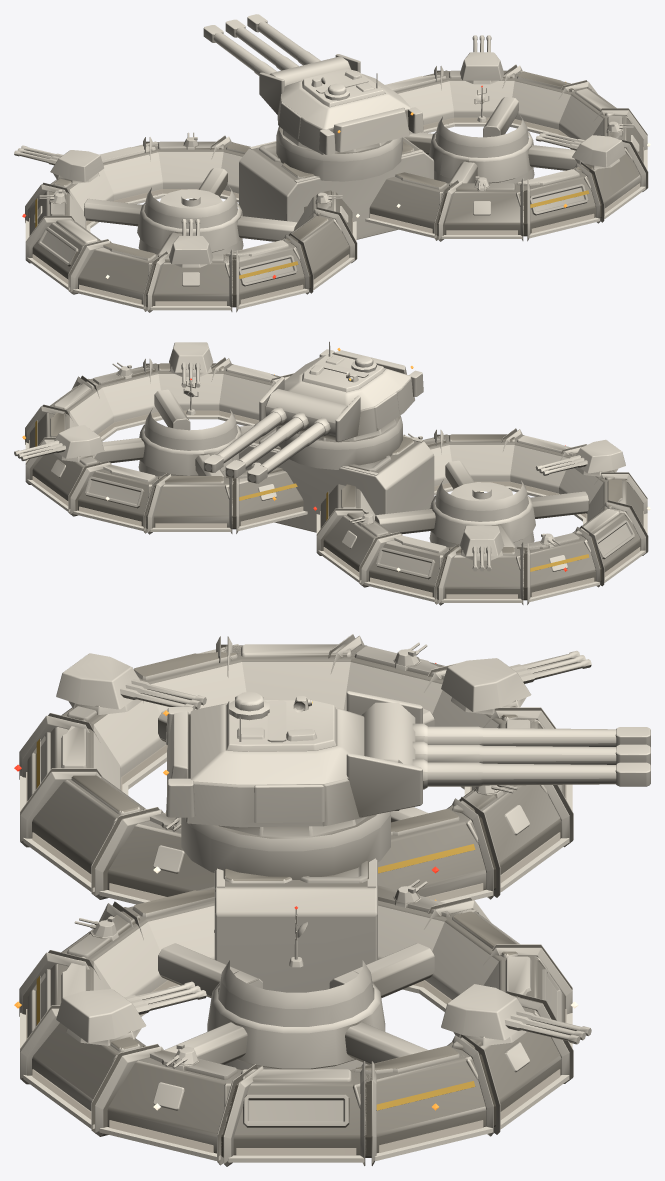
Rendered from plektor_station.glb.
3 views of the same model, one above another, from view 1: azimuth 30°, elevation 25°; view 2: azimuth 150°, elevation 25°; view 3: azimuth 270°, elevation 25° (orthographic). The views are drawn at different scales.
Parts seen in each view (by area): view 1: hull, turret_0, aux_0, aux_3, aux_1, aux_2, reactor; view 2: hull, turret_0, aux_1, aux_2, aux_0, aux_3, reactor; view 3: hull, turret_0, aux_3, aux_1, aux_0, aux_2.
Boxes of the visible parts, x1=… form: hull: x1=22, y1=64, x2=650, y2=312; turret_0: x1=203, y1=14, x2=423, y2=154; aux_0: x1=14, y1=145, x2=103, y2=183; aux_3: x1=536, y1=130, x2=625, y2=169; aux_1: x1=460, y1=35, x2=504, y2=84; aux_2: x1=169, y1=219, x2=213, y2=267; reactor: x1=160, y1=189, x2=222, y2=208; hull: x1=22, y1=357, x2=650, y2=605; turret_0: x1=203, y1=341, x2=423, y2=483; aux_1: x1=14, y1=425, x2=104, y2=461; aux_2: x1=535, y1=439, x2=625, y2=476; aux_0: x1=460, y1=525, x2=504, y2=571; aux_3: x1=169, y1=342, x2=213, y2=387; reactor: x1=450, y1=482, x2=512, y2=501; hull: x1=14, y1=634, x2=578, y2=1166; turret_0: x1=163, y1=691, x2=650, y2=836; aux_3: x1=56, y1=981, x2=206, y2=1045; aux_1: x1=441, y1=984, x2=591, y2=1045; aux_0: x1=441, y1=650, x2=591, y2=714; aux_2: x1=56, y1=653, x2=206, y2=714.
Bounding box in the file's own units: 107 × 27.73 × 61.13.
Materials: 9 (4 with a texture image).
